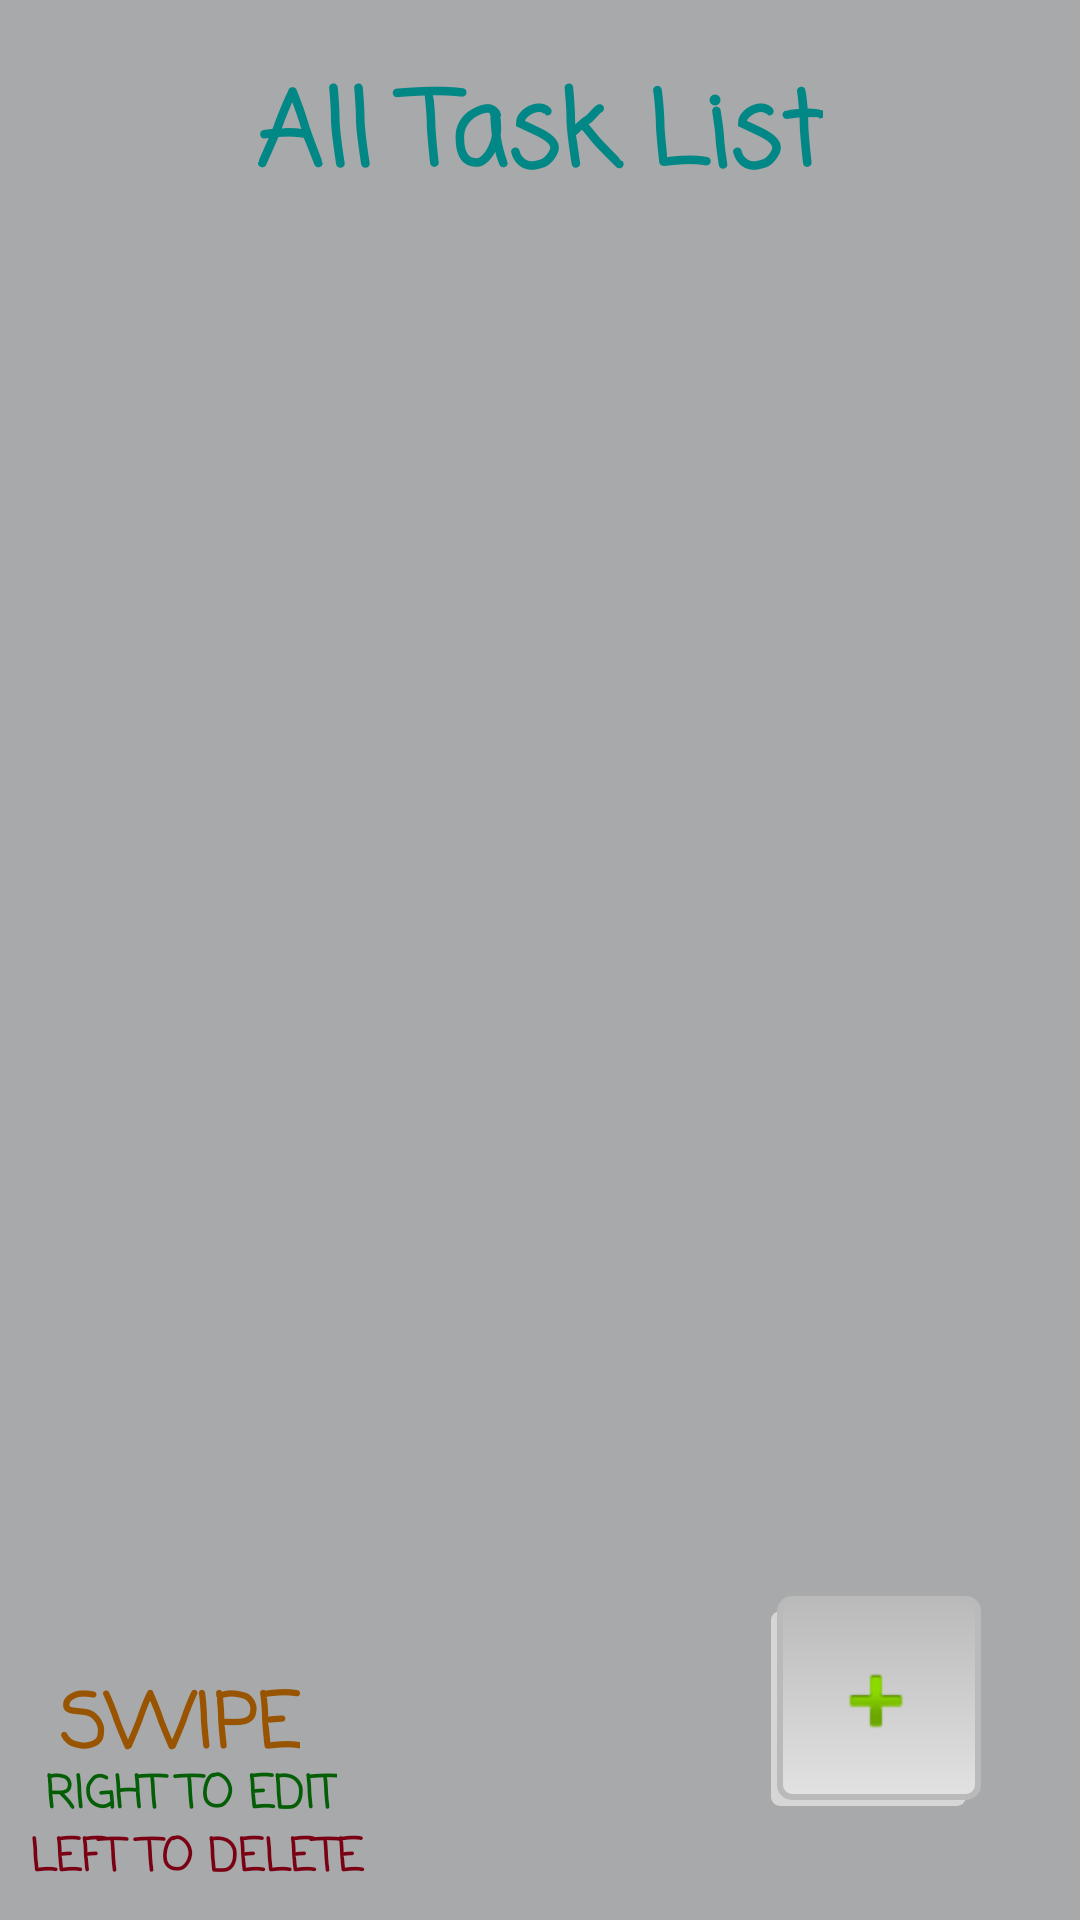

Icons on this 1080w x 1920h Android screen, each with its box as (x1, y1, x2, y2):
add: (771, 1612, 975, 1806)
